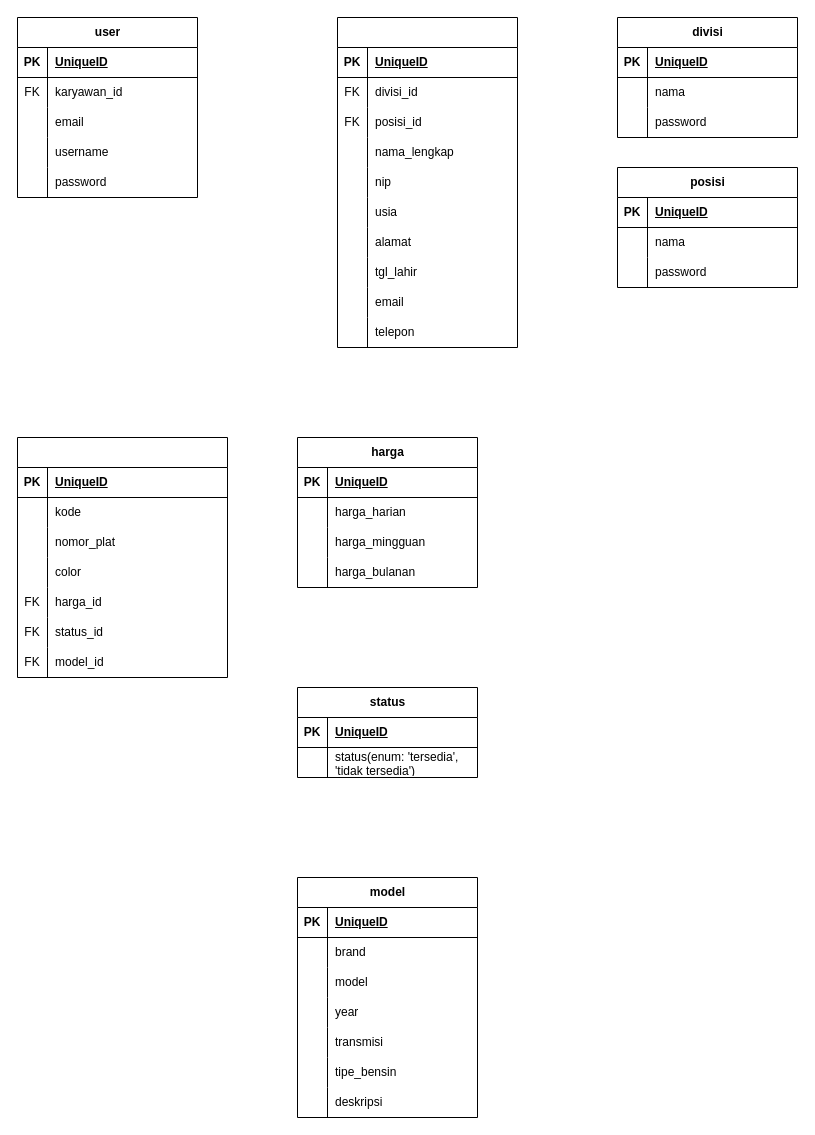
This 815x1135 diagram has some shape labels left out. Each missing label, with the box of its shape:
karyawan: (336, 16, 518, 348)
mobil: (16, 436, 228, 678)
